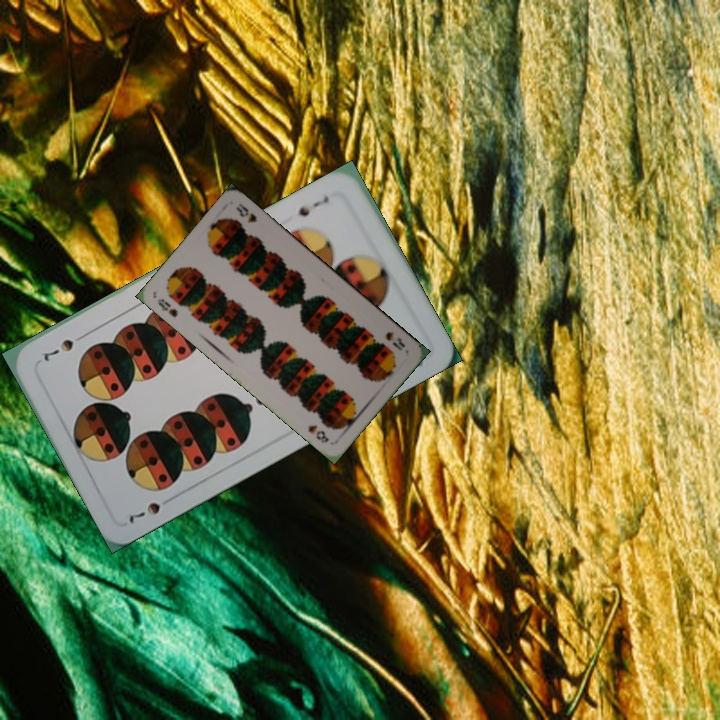S7: (125, 491, 177, 525), (294, 191, 332, 219)
S8: (381, 327, 408, 353), (153, 294, 180, 320)
